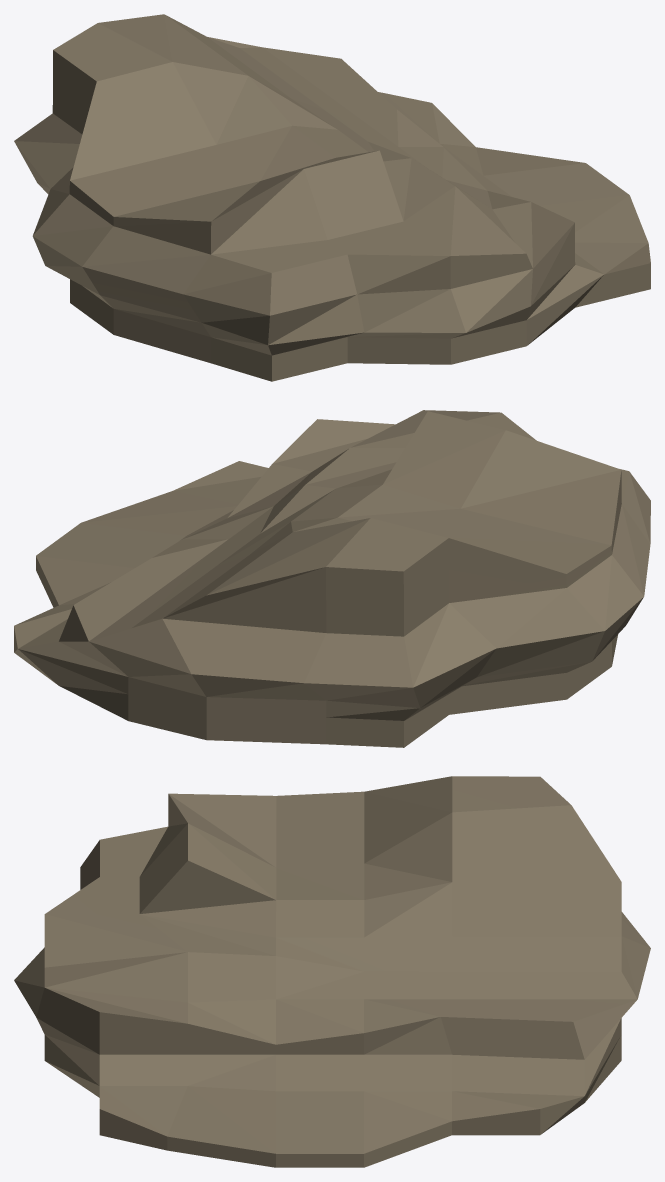
Rendered from Hill_02.glb.
3 views of the same model, one above another, from view 1: azimuth 30°, elevation 25°; view 2: azimuth 150°, elevation 25°; view 3: azimuth 270°, elevation 25° (orthographic). The views are drawn at different scales.
Visible parts, largest first — view 1: Hill_temperate_climate_002; view 2: Hill_temperate_climate_002; view 3: Hill_temperate_climate_002.
Part boxes in pixels (x1,y1,x2,y2): Hill_temperate_climate_002: (14, 14, 650, 381); Hill_temperate_climate_002: (14, 410, 650, 747); Hill_temperate_climate_002: (14, 776, 650, 1167).
Bounding box in the file's own units: 33.57 × 10.03 × 33.26.
Materials: 1 (1 with a texture image).
